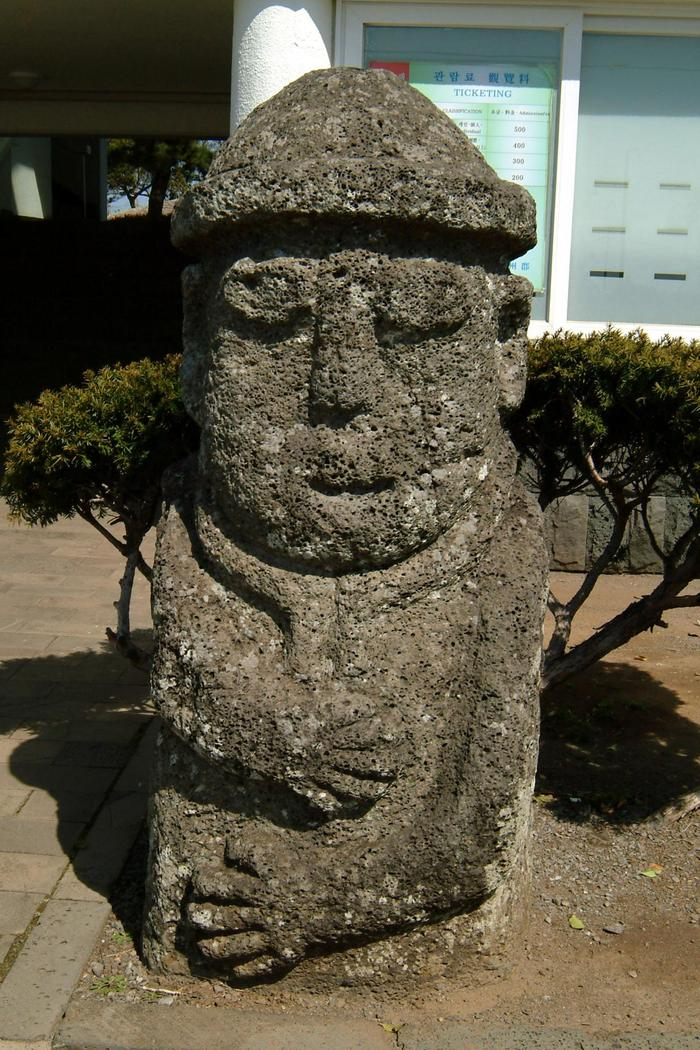Stone Statue: (123, 50, 561, 1003)
